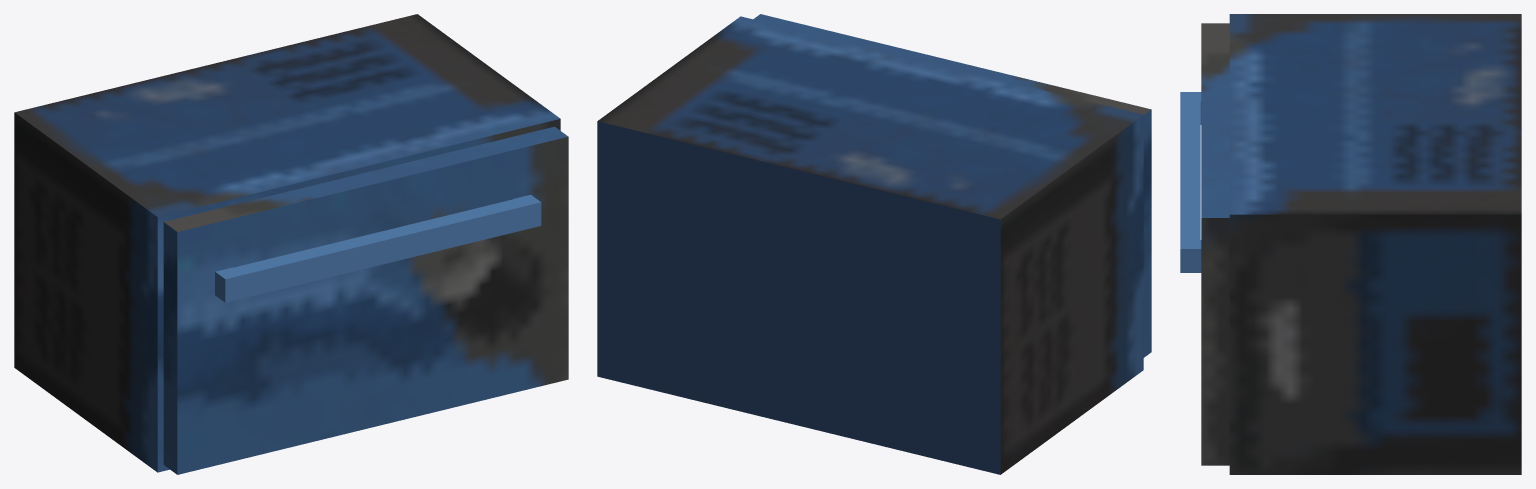
The model's file is pz_g023_appliances_misc_01_blue_generator.obj.
3 views of the same model, side by side, from view 1: azimuth 30°, elevation 25°; view 2: azimuth 150°, elevation 25°; view 3: azimuth 270°, elevation 25° (orthographic).
Parts seen in each view (by area): view 1: inverter_lid_top, inverter_housing_front, inverter_housing_right, handle_grip_top, inverter_lid_front, inverter_housing_top, inverter_lid_right, handle_grip_front; view 2: inverter_housing_bottom, inverter_housing_front, inverter_housing_right, inverter_lid_front, inverter_lid_right; view 3: inverter_housing_left, inverter_housing_front, inverter_lid_left, inverter_lid_front, handle_grip_front, handle_support_left, handle_support_front.
Part boxes in pixels (left/top/right/bottom): inverter_lid_top: left=177, top=136, right=568, bottom=474; inverter_housing_front: left=15, top=14, right=560, bottom=216; inverter_housing_right: left=14, top=112, right=157, bottom=472; handle_grip_top: left=225, top=202, right=541, bottom=302; inverter_lid_front: left=164, top=126, right=567, bottom=231; inverter_housing_top: left=157, top=119, right=560, bottom=472; inverter_lid_right: left=163, top=222, right=177, bottom=474; handle_grip_front: left=216, top=199, right=522, bottom=278; inverter_housing_bottom: left=597, top=121, right=1000, bottom=474; inverter_housing_front: left=597, top=16, right=1143, bottom=219; inverter_housing_right: left=1000, top=115, right=1143, bottom=474; inverter_lid_front: left=753, top=14, right=1150, bottom=114; inverter_lid_right: left=1143, top=109, right=1151, bottom=357; inverter_housing_left: left=1229, top=214, right=1521, bottom=474; inverter_housing_front: left=1229, top=14, right=1521, bottom=214; inverter_lid_left: left=1201, top=218, right=1229, bottom=465; inverter_lid_front: left=1201, top=23, right=1229, bottom=217; handle_grip_front: left=1180, top=92, right=1200, bottom=248; handle_support_left: left=1180, top=101, right=1201, bottom=272; handle_support_front: left=1180, top=92, right=1201, bottom=248.
Bounding box in the file's own units: 0.5359 × 0.3246 × 0.3854.
1 material, 1 textured.
